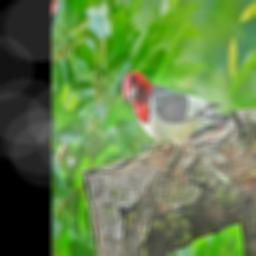Woodpecker: (109, 23, 234, 202)
